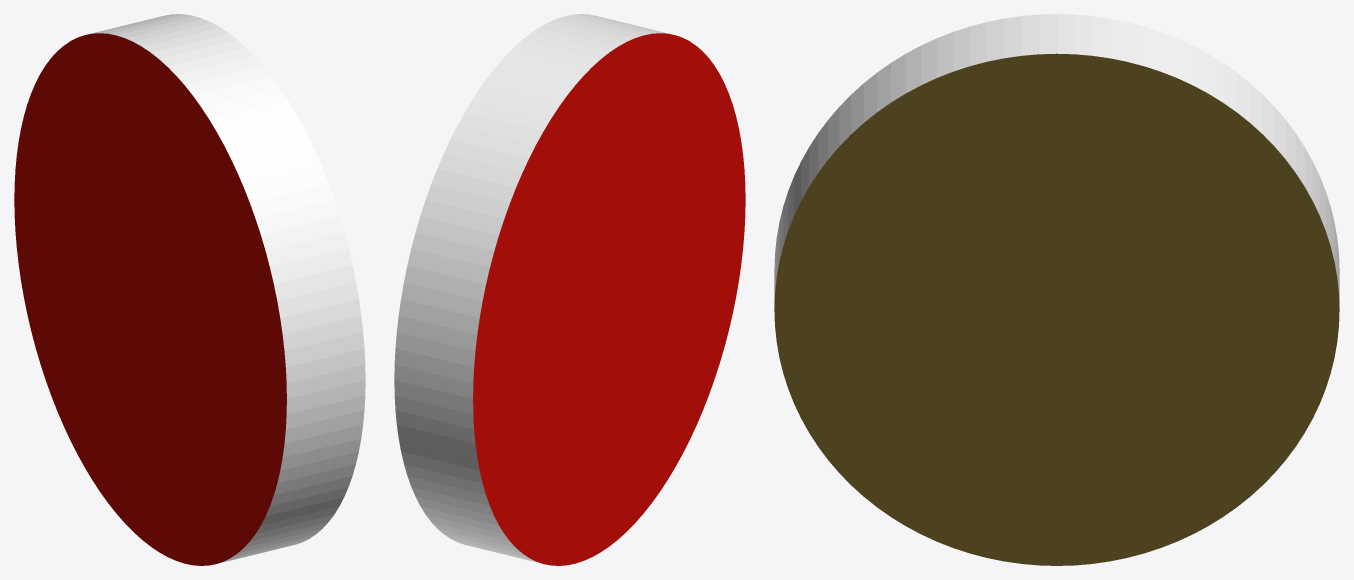
The model's file is icon.fbx.
3 renders of one model, left to right at view 1: azimuth 30°, elevation 25°; view 2: azimuth 150°, elevation 25°; view 3: azimuth 270°, elevation 25°, orthographic. The views are drawn at different scales.
Visible parts, largest first — view 1: Cylinder; view 2: Cylinder; view 3: Cylinder.
Boxes of the visible parts, <box> form: Cylinder: <box>14,14,365,565</box>; Cylinder: <box>394,14,745,565</box>; Cylinder: <box>774,14,1339,565</box>.
Size of the model in its own units: 50 by 300 by 300.
